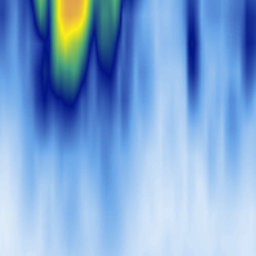defect: (45, 1, 95, 119), (93, 1, 117, 110), (240, 1, 256, 84), (187, 1, 199, 97), (24, 1, 50, 43), (121, 1, 130, 102)
